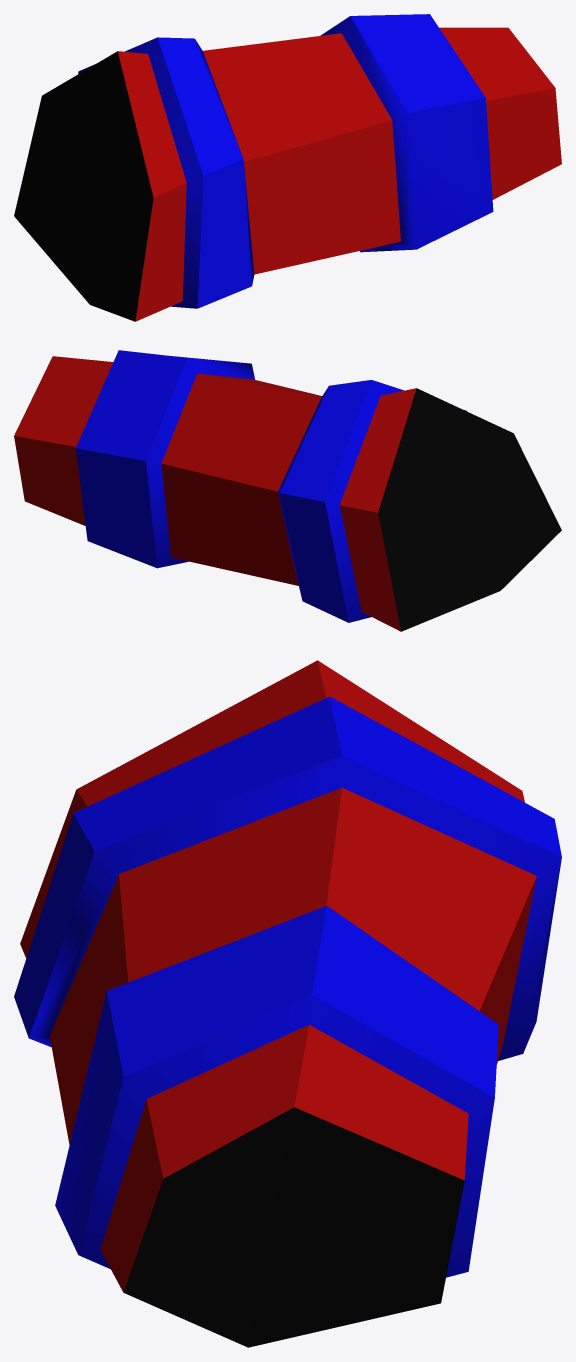
File: Chr_ArmUpperLeft_Male_Static_02.fbx
3 renders of one model, top to bottom at view 1: azimuth 30°, elevation 25°; view 2: azimuth 150°, elevation 25°; view 3: azimuth 270°, elevation 25°, orthographic. The views are drawn at different scales.
Visible parts, largest first — view 1: Chr_ArmUpperLeft_Male_02; view 2: Chr_ArmUpperLeft_Male_02; view 3: Chr_ArmUpperLeft_Male_02.
Part boxes in pixels (x1=…): Chr_ArmUpperLeft_Male_02: x1=14, y1=14, x2=561, y2=321; Chr_ArmUpperLeft_Male_02: x1=14, y1=350, x2=561, y2=631; Chr_ArmUpperLeft_Male_02: x1=14, y1=660, x2=561, y2=1347.
Size of the model in its own units: 32.04 by 16.13 by 18.67.
